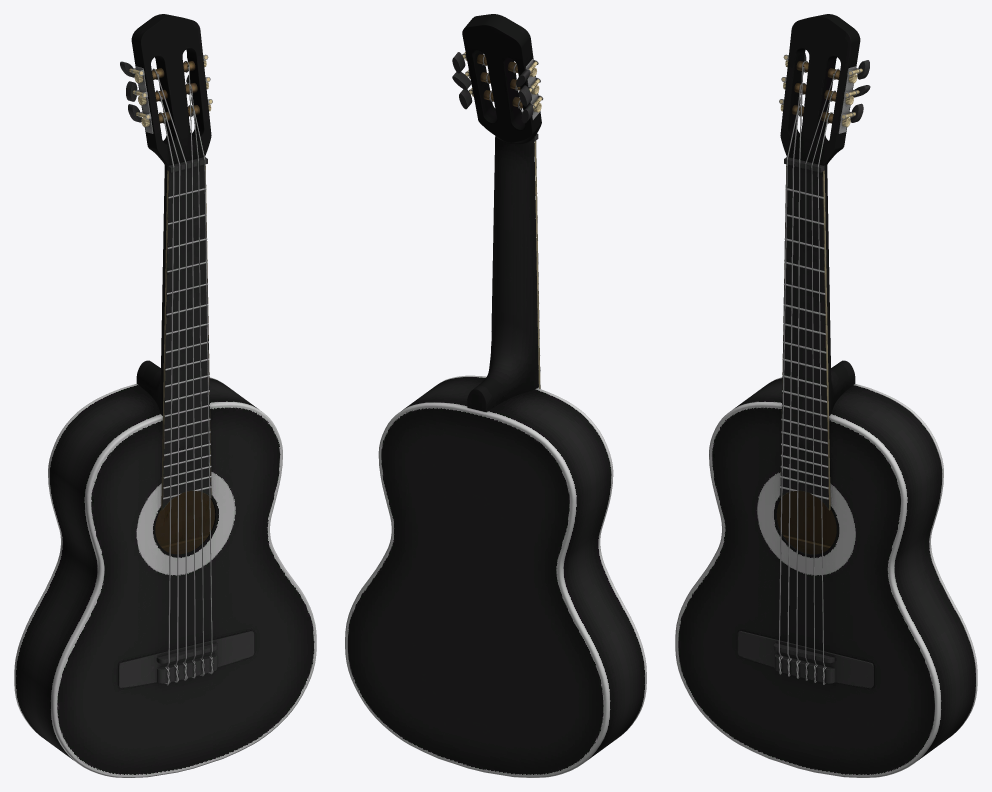
The model's file is guitar.gltf.
3 views of the same model, side by side, from view 1: azimuth 30°, elevation 25°; view 2: azimuth 150°, elevation 25°; view 3: azimuth 330°, elevation 25° (orthographic).
Parts seen in each view (by area): view 1: SM_AcousticGuitar01; view 2: SM_AcousticGuitar01; view 3: SM_AcousticGuitar01.
Boxes of the visible parts, left/top/right/bottom form: SM_AcousticGuitar01: left=14, top=14, right=316, bottom=777; SM_AcousticGuitar01: left=345, top=14, right=646, bottom=777; SM_AcousticGuitar01: left=675, top=14, right=977, bottom=777.
Bounding box in the file's own units: 0.39 × 1.05 × 0.118.
Materials: 1 (1 with a texture image).
